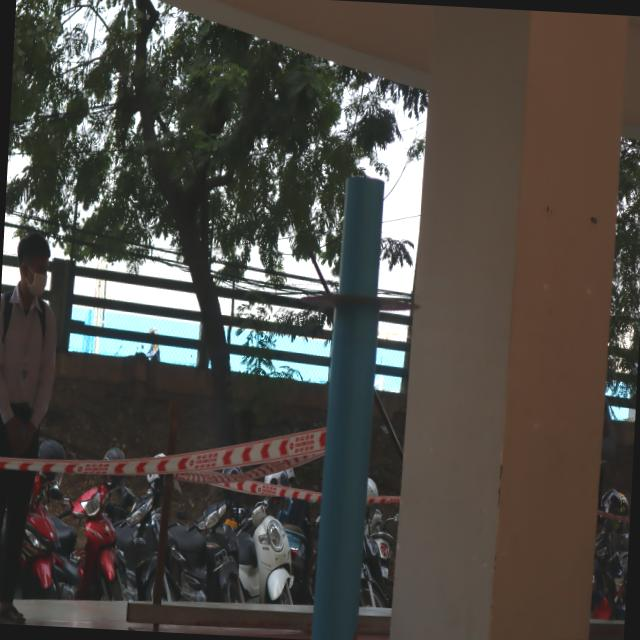pole: (288, 176, 420, 399)
